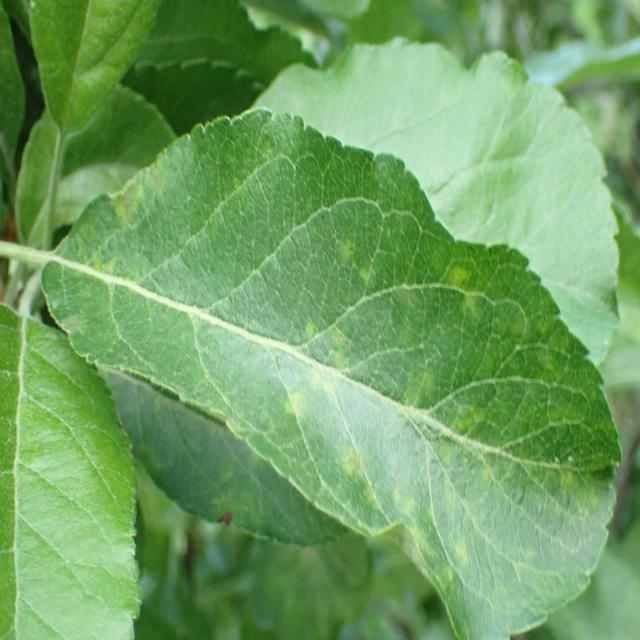scab: (238, 248, 583, 563), (82, 163, 209, 251)
